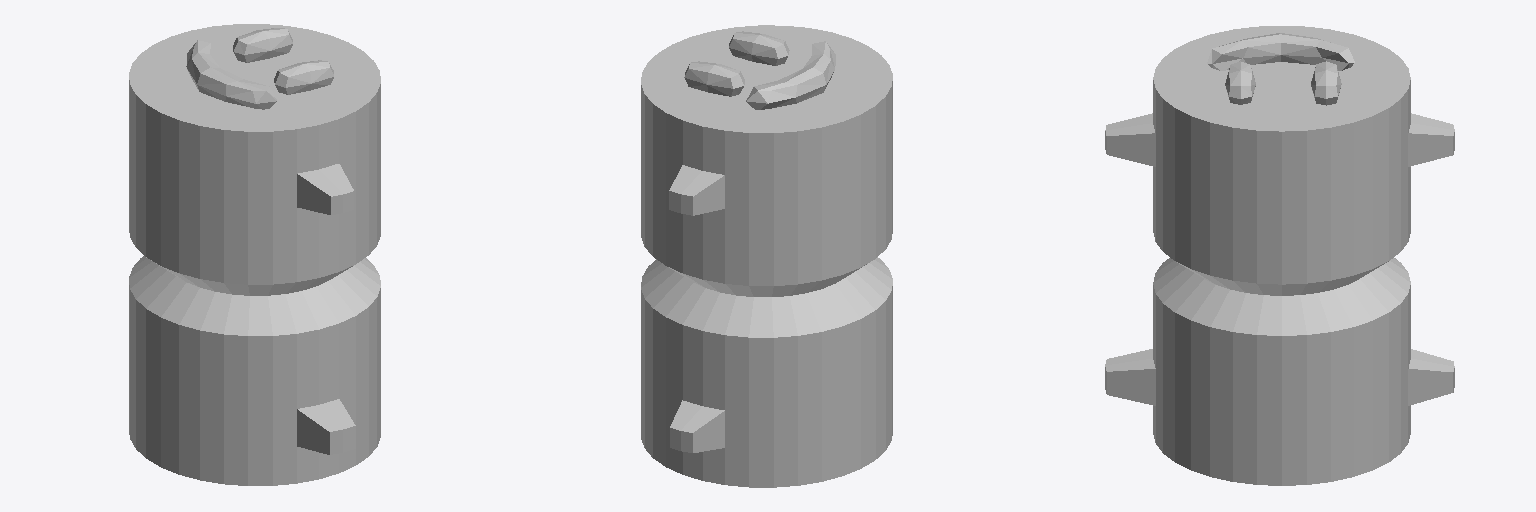
Rendered from kidokun_idol.obj.
3 renders of one model, left to right at view 1: azimuth 30°, elevation 25°; view 2: azimuth 150°, elevation 25°; view 3: azimuth 270°, elevation 25°, orthographic.
Visible parts, largest first — view 1: 円柱_円柱.001; view 2: 円柱_円柱.001; view 3: 円柱_円柱.001.
Boxes of the visible parts, x1=… form: 円柱_円柱.001: x1=129, y1=24, x2=380, y2=485; 円柱_円柱.001: x1=641, y1=25, x2=892, y2=487; 円柱_円柱.001: x1=1105, y1=26, x2=1454, y2=485.
Bounding box in the file's own units: 1.95 × 3.43 × 2.71.